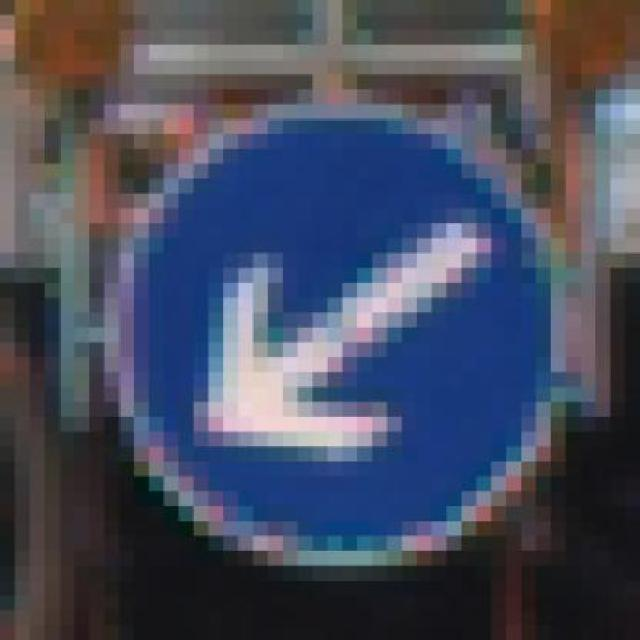Keep-Left: (74, 74, 595, 580)
